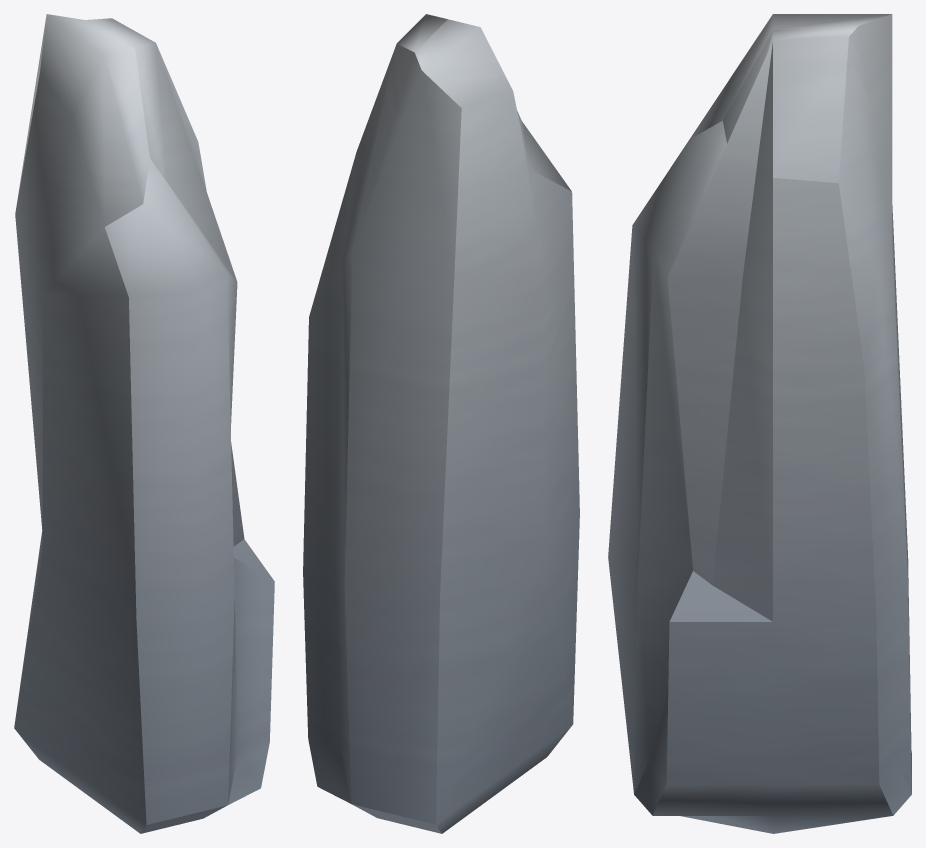
The model's file is Arch2.fbx.
3 renders of one model, left to right at view 1: azimuth 30°, elevation 25°; view 2: azimuth 150°, elevation 25°; view 3: azimuth 270°, elevation 25°, orthographic. The views are drawn at different scales.
Parts seen in each view (by area): view 1: polySurface29; view 2: polySurface29; view 3: polySurface29.
Part boxes in pixels (<box>): polySurface29: <box>14,14,274,833</box>; polySurface29: <box>303,14,579,833</box>; polySurface29: <box>608,14,911,833</box>.
Size of the model in its own units: 1.91 by 7.4 by 2.63.
